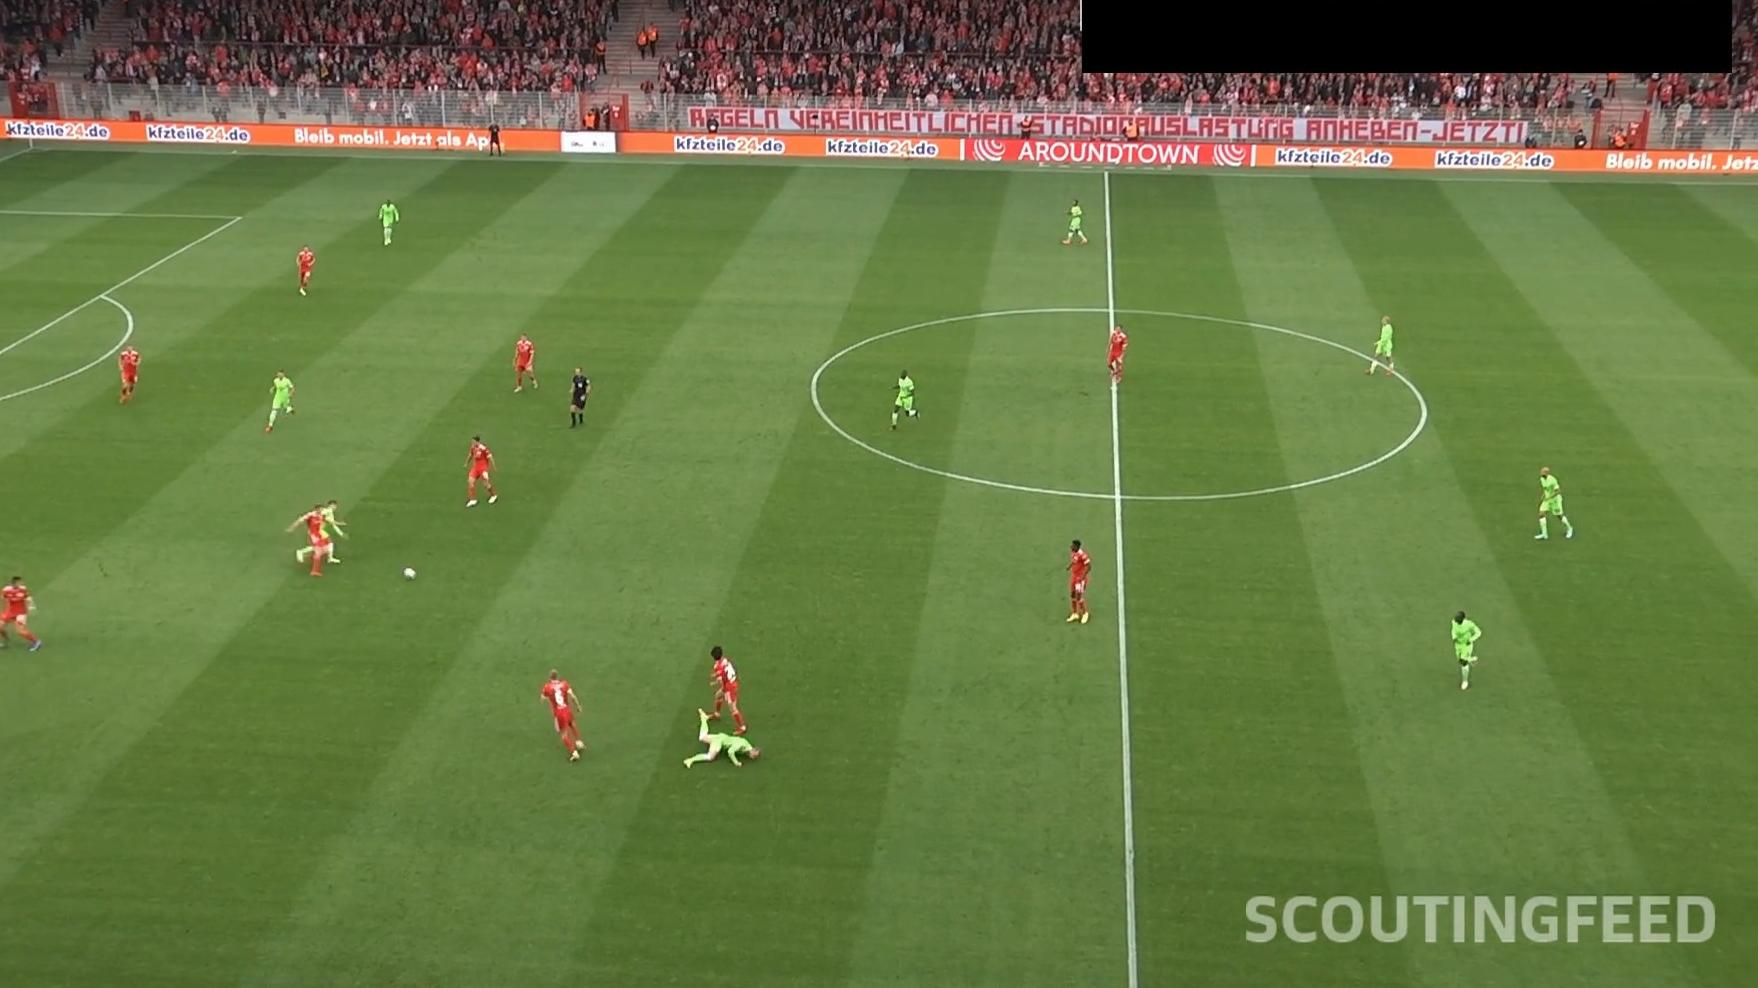ball: (402, 564, 418, 581)
